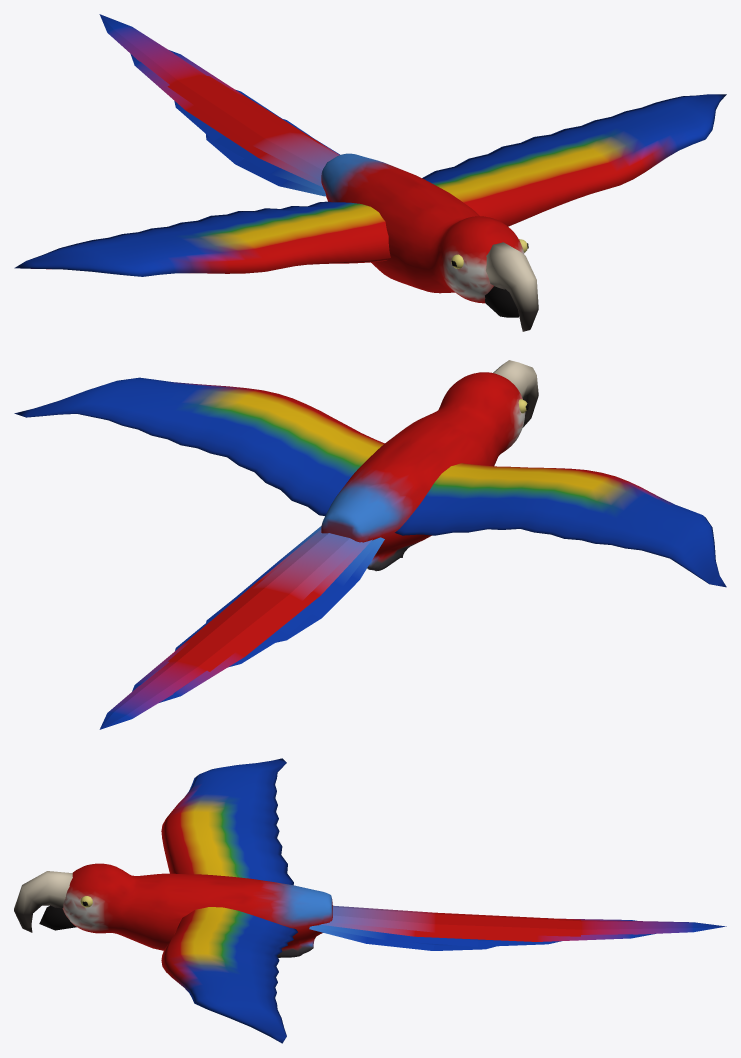
File: ScarletMacaw.fbx
3 views of the same model, one above another, from view 1: azimuth 30°, elevation 25°; view 2: azimuth 150°, elevation 25°; view 3: azimuth 270°, elevation 25° (orthographic). The views are drawn at different scales.
Visible parts, largest first — view 1: ScarletMacaw; view 2: ScarletMacaw; view 3: ScarletMacaw.
Boxes of the visible parts, x1,y1,x2,y2 form: ScarletMacaw: (14, 14, 726, 331); ScarletMacaw: (14, 360, 726, 729); ScarletMacaw: (14, 758, 726, 1043).
Size of the model in its own units: 1.2 by 0.1696 by 1.27.
